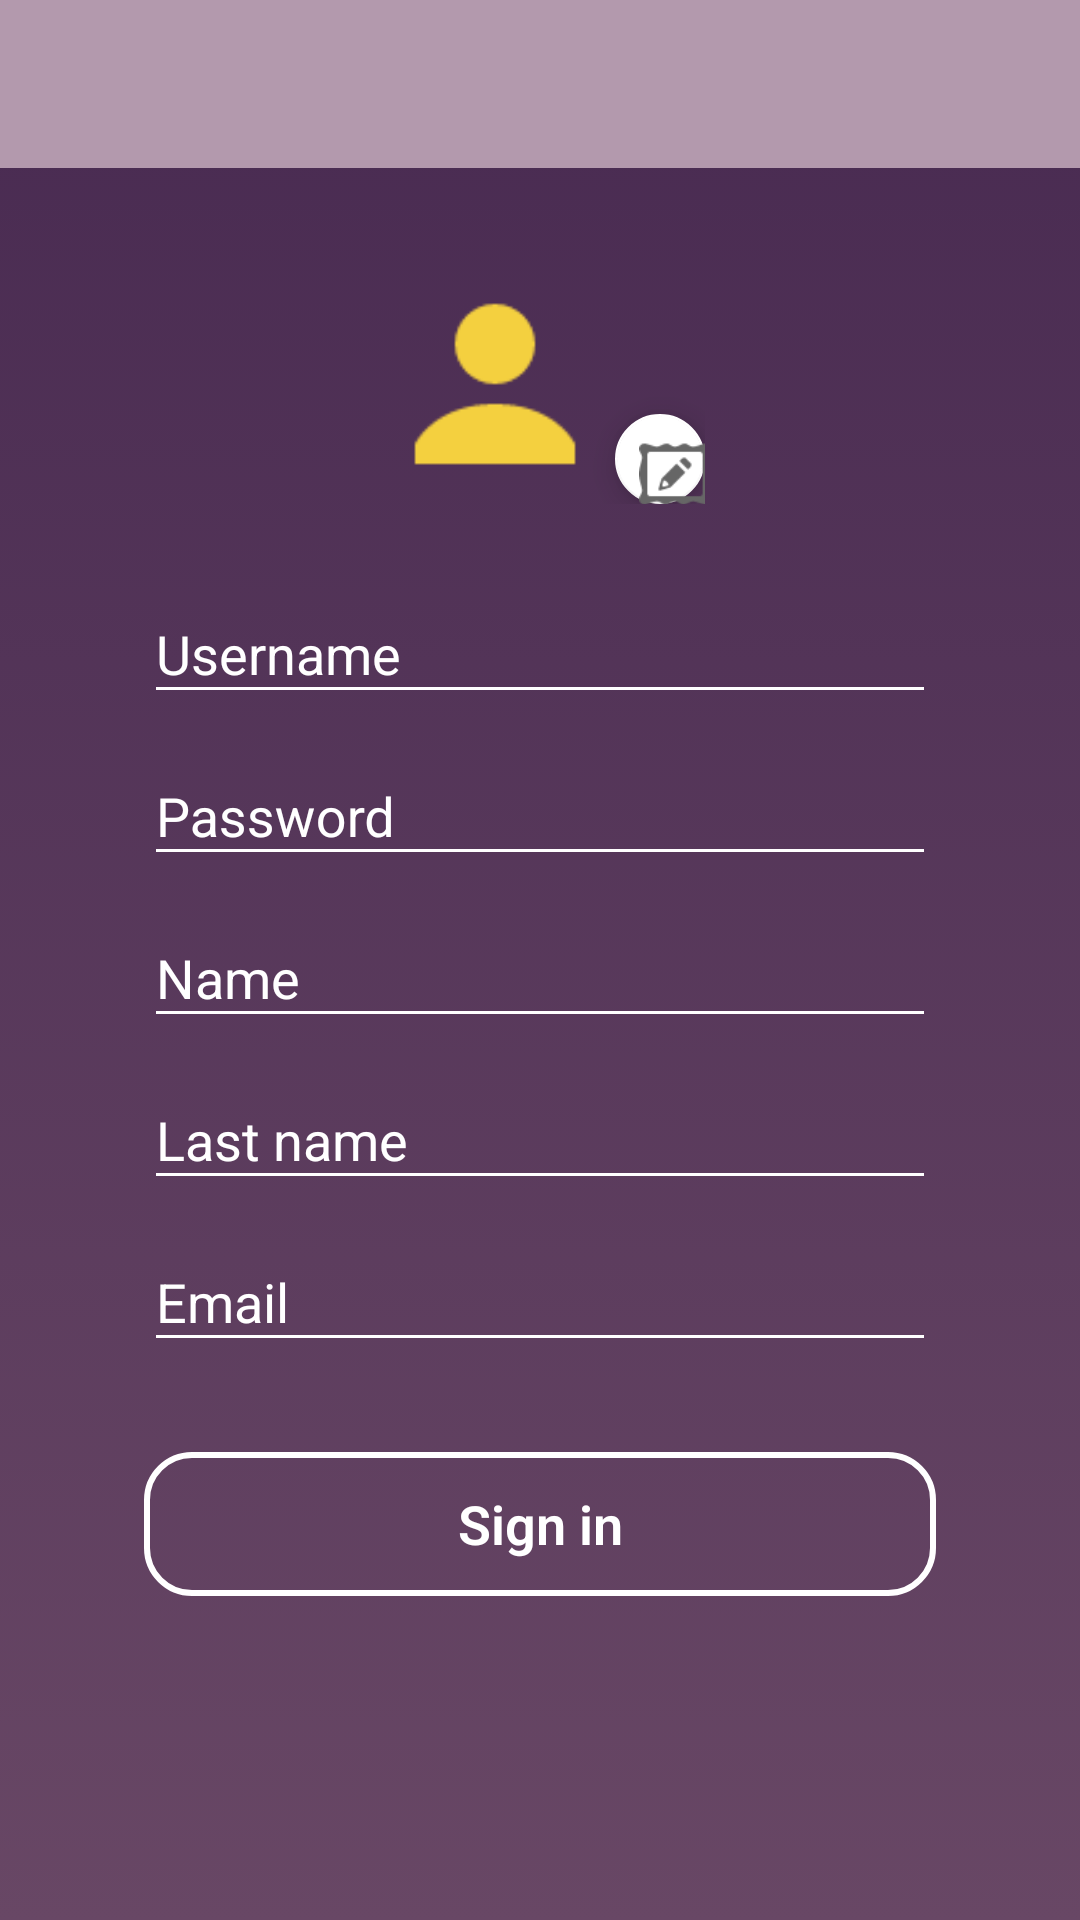

Point at icon controls on the screen. Image size 1080x1920, points as [x,y].
photo edit: [660,459]
